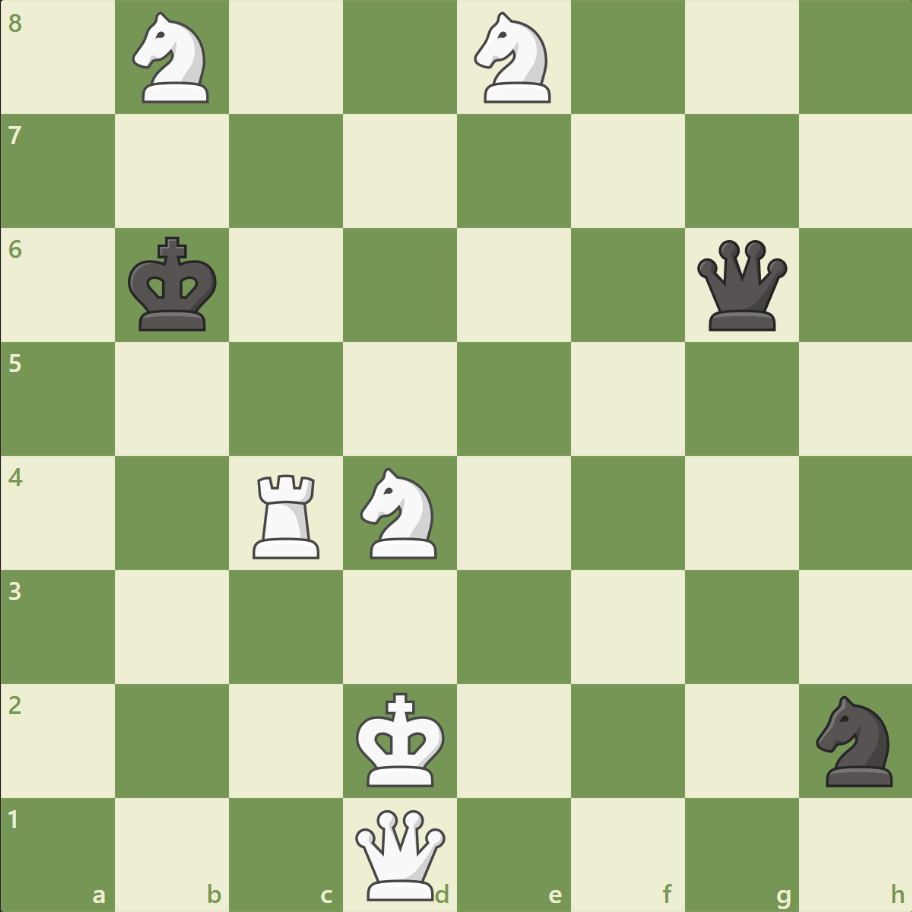K: (351, 685, 451, 793)
N: (124, 7, 222, 110), (351, 461, 449, 564), (465, 7, 562, 110)
Q: (351, 804, 450, 903)
R: (246, 466, 329, 563)
k: (124, 231, 224, 339)
n: (806, 688, 903, 791)
q: (691, 236, 790, 335)
